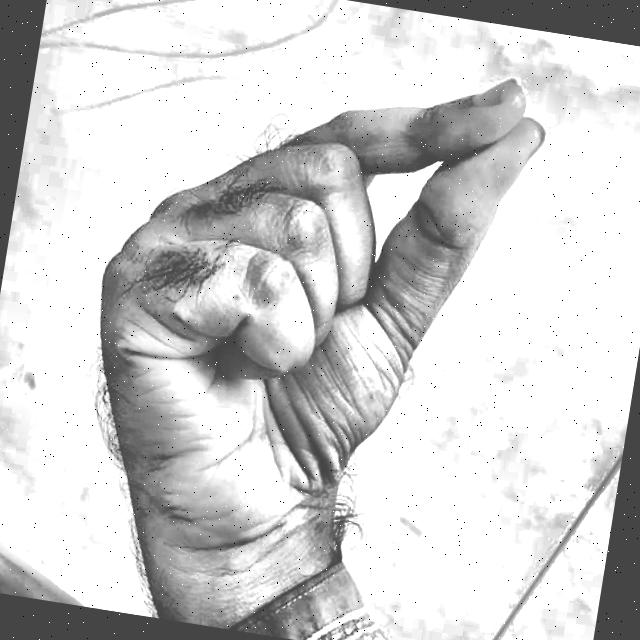Anusshar: (45, 5, 567, 640)
